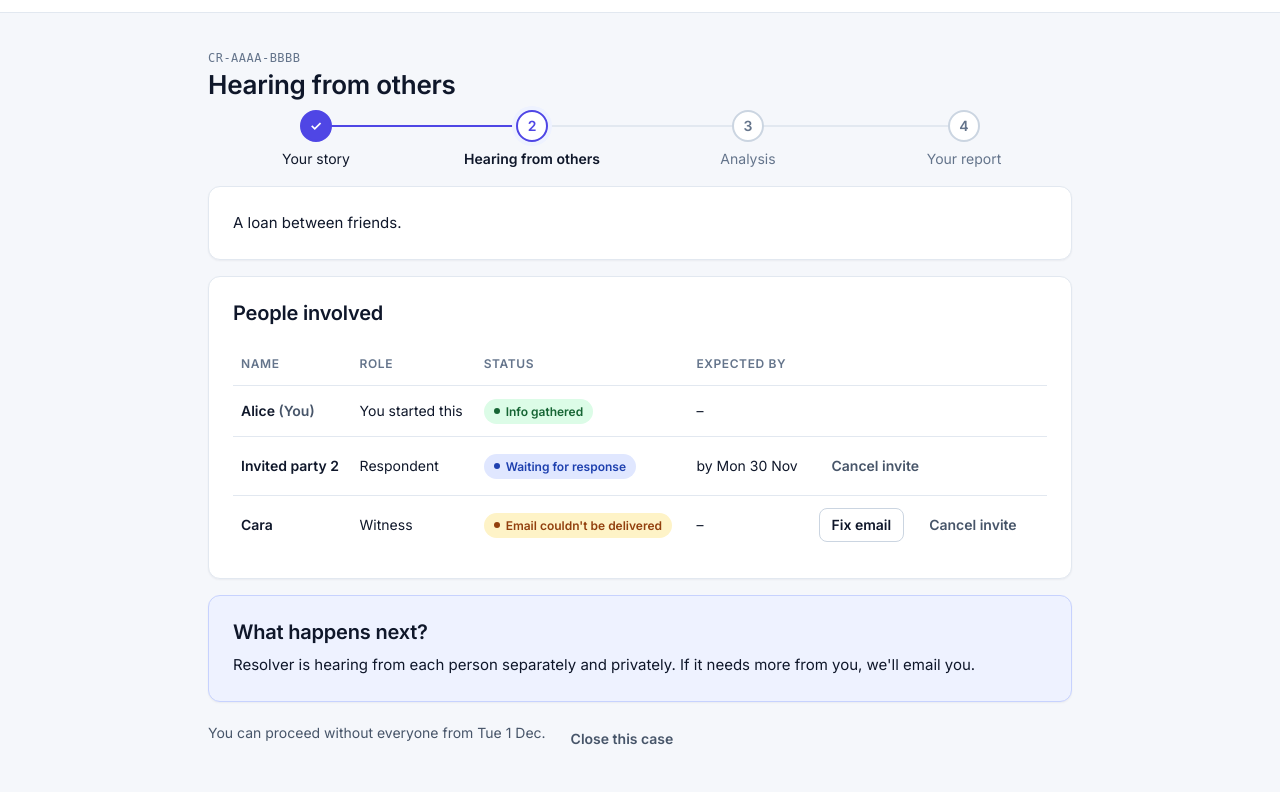
Case dashboard › confirms before closing
Later steps or results of the test are not shown.
(page scrolled)
Click the button "Close this case": point(622, 739) [558,718,686,760]
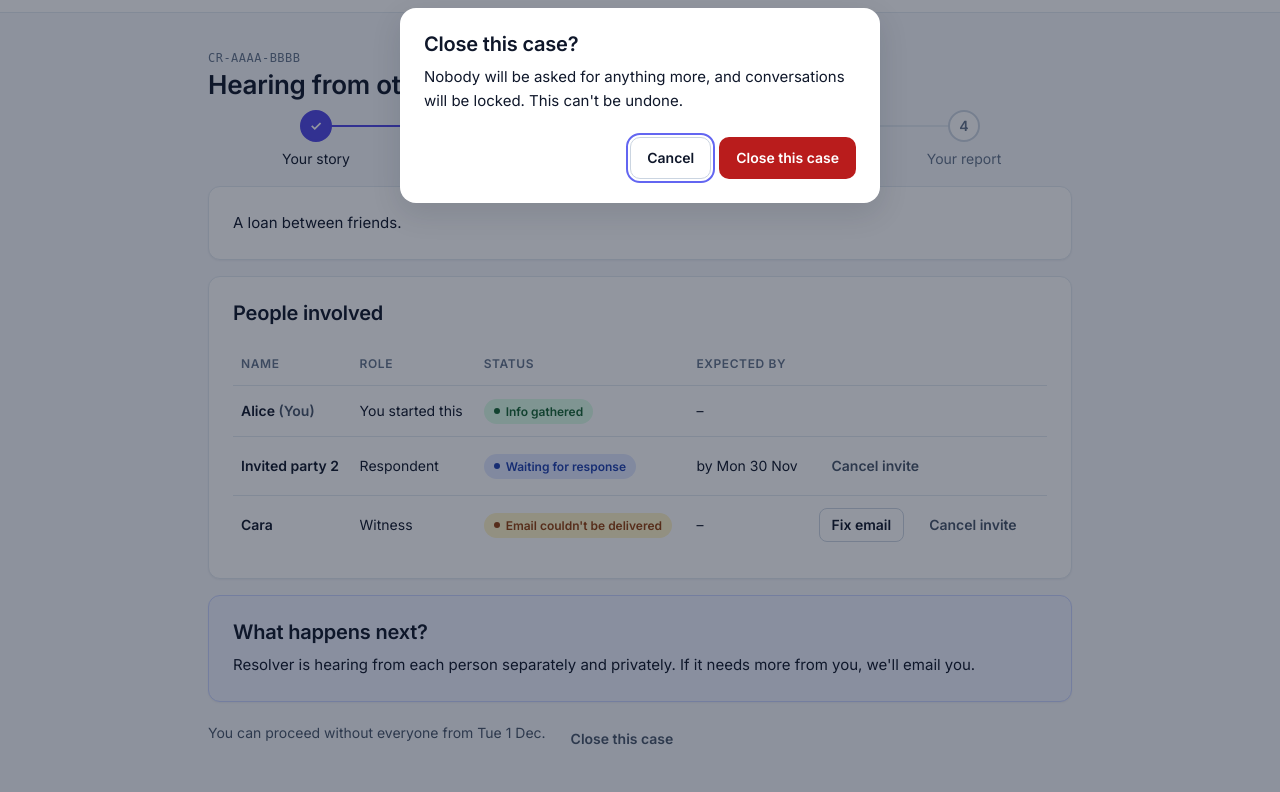
expect the heading "Close this case?" is shown: met, box [424,32,578,56]
